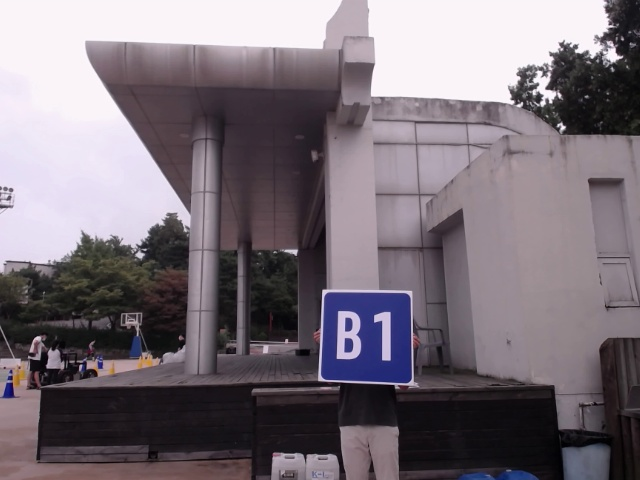delivery_b1: (319, 289, 414, 384)
